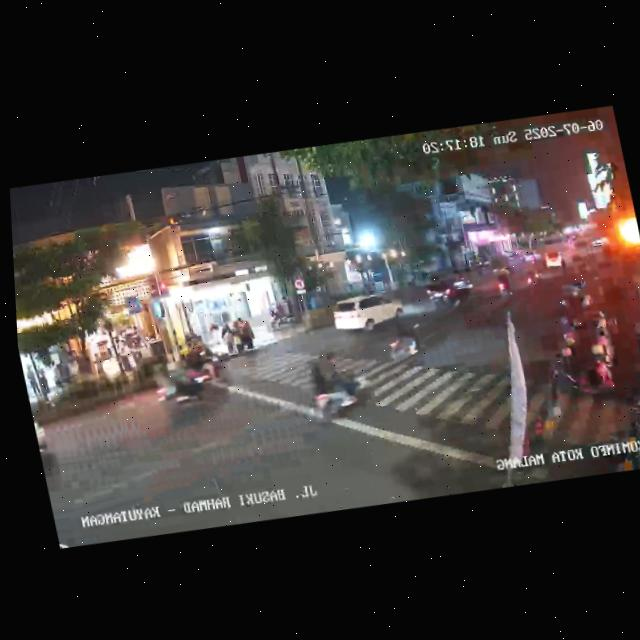car: (329, 289, 408, 340), (429, 285, 470, 314), (544, 249, 567, 274), (521, 249, 541, 264)
motorcycle: (303, 343, 383, 431), (150, 357, 209, 410), (173, 342, 230, 390), (380, 312, 430, 366), (494, 272, 514, 304), (524, 267, 547, 294), (529, 253, 539, 265)
person: (238, 315, 258, 353), (230, 318, 248, 355), (25, 363, 43, 400), (219, 320, 237, 356), (36, 363, 50, 396), (92, 352, 108, 379), (267, 309, 281, 334)
